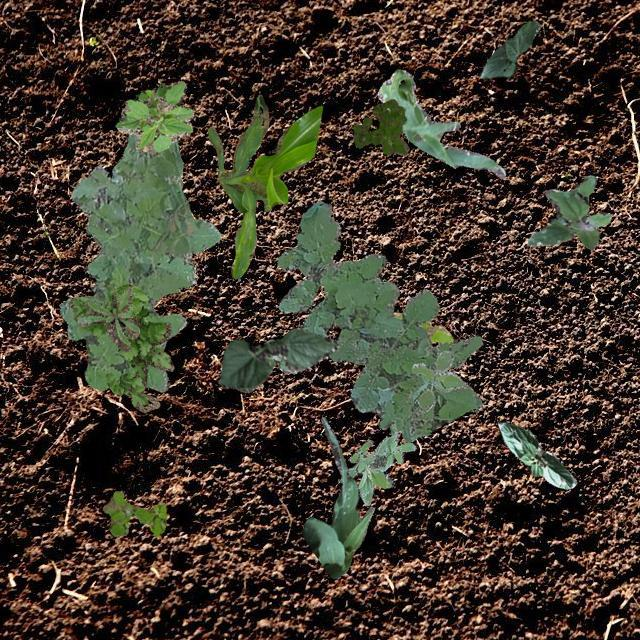crop: (206, 94, 322, 278), (376, 68, 504, 176), (301, 417, 374, 578), (218, 326, 338, 392), (496, 421, 576, 488), (478, 20, 540, 78)
weed: (276, 200, 482, 440), (58, 132, 220, 390), (68, 284, 172, 412), (526, 174, 610, 248), (114, 80, 192, 152), (346, 422, 414, 504), (75, 282, 138, 350), (411, 349, 464, 412), (352, 99, 408, 154), (102, 490, 166, 536), (392, 312, 452, 342), (265, 353, 295, 372)
